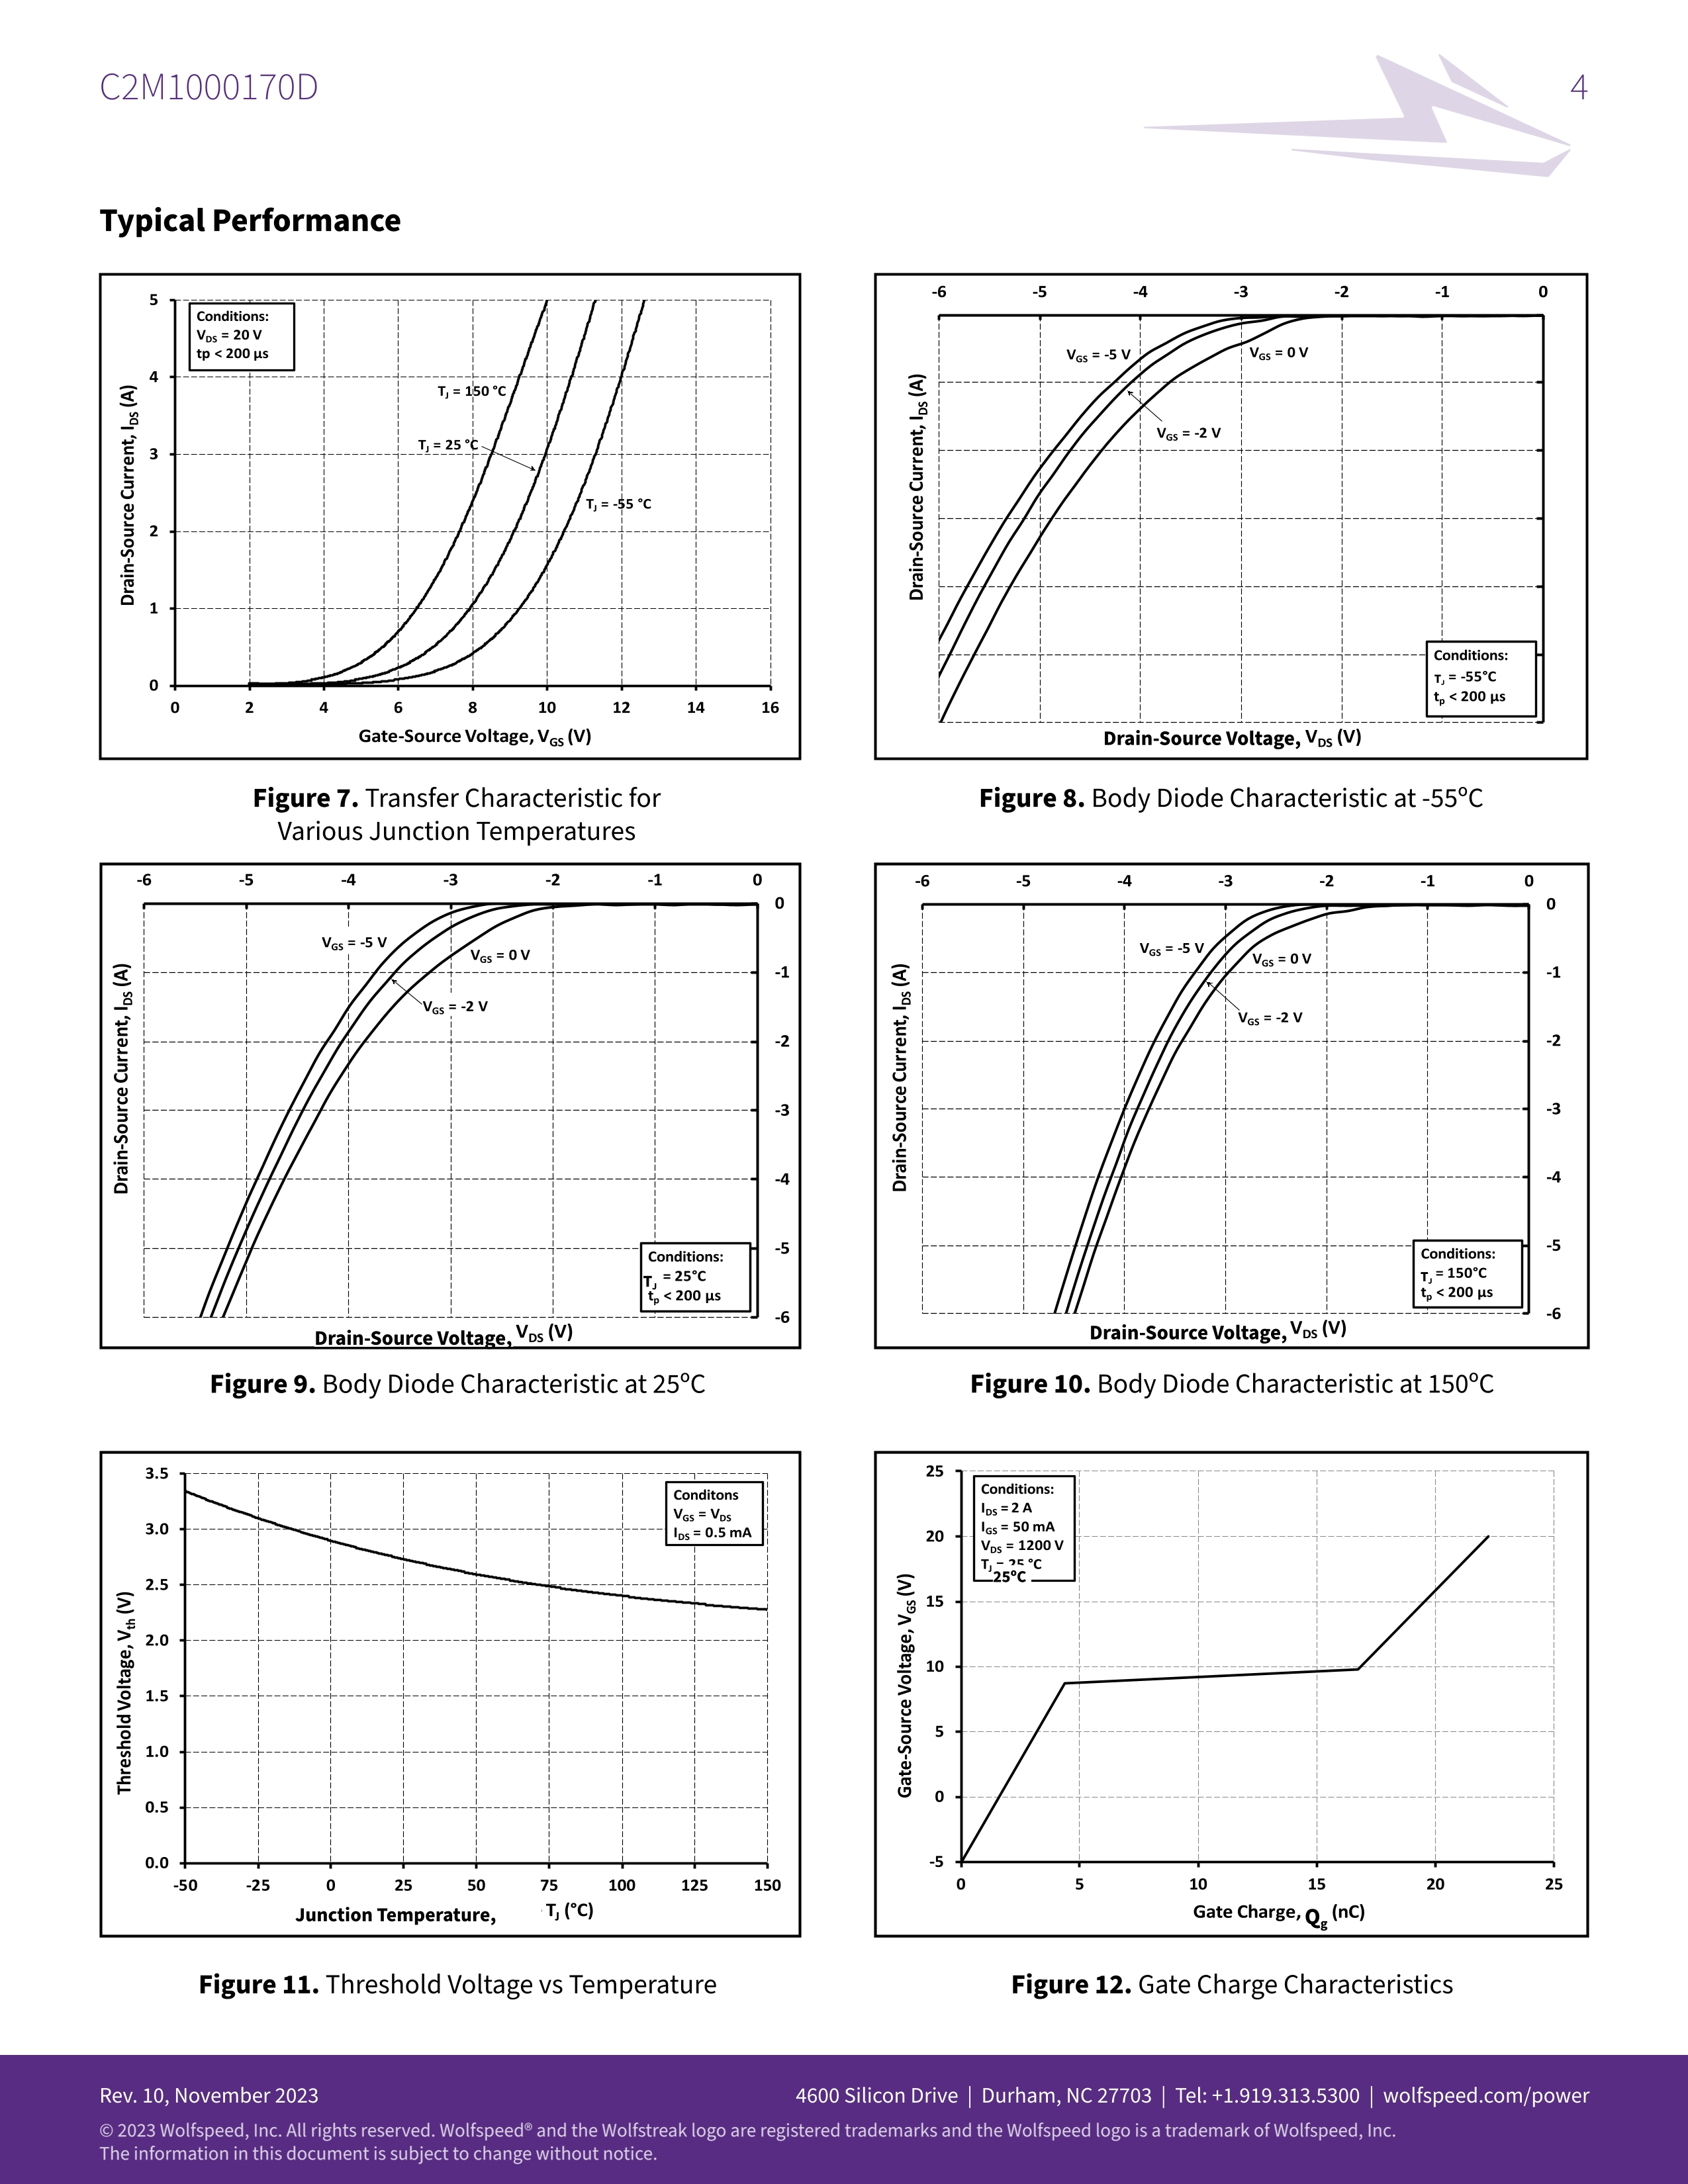diagram: (87, 1438, 814, 2048), (855, 261, 1605, 851), (856, 1445, 1601, 2028), (92, 257, 807, 863), (856, 851, 1601, 1427), (87, 844, 814, 1420)
